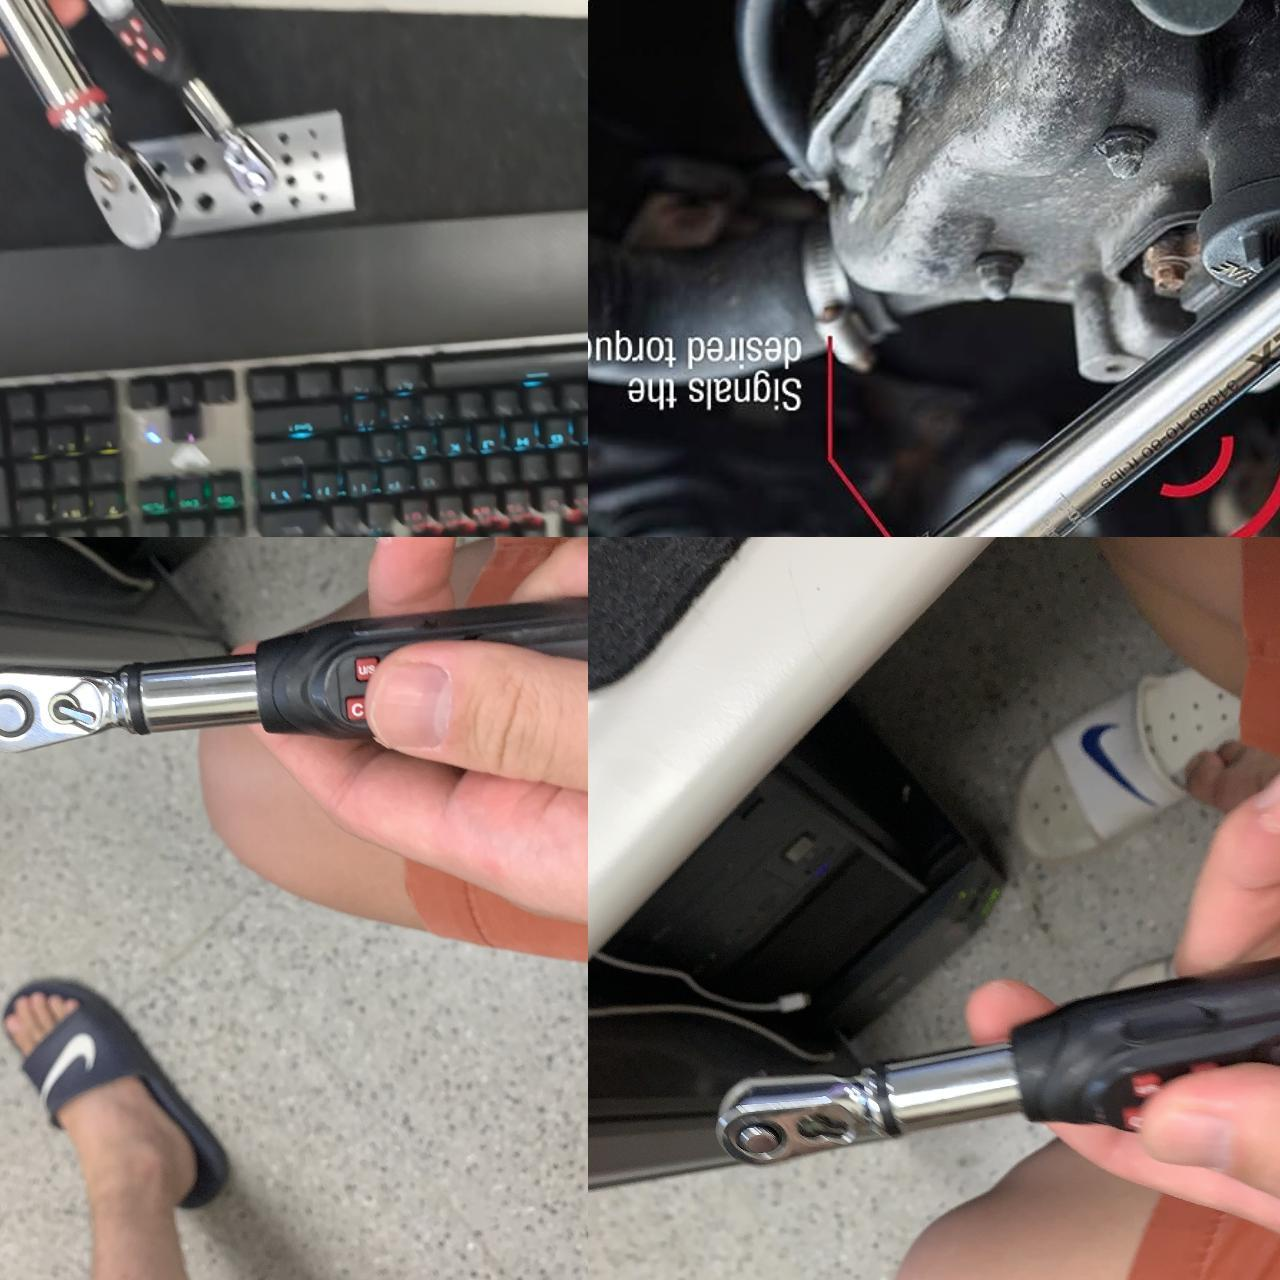Tool: (715, 1073, 877, 1176), (0, 651, 134, 764)
